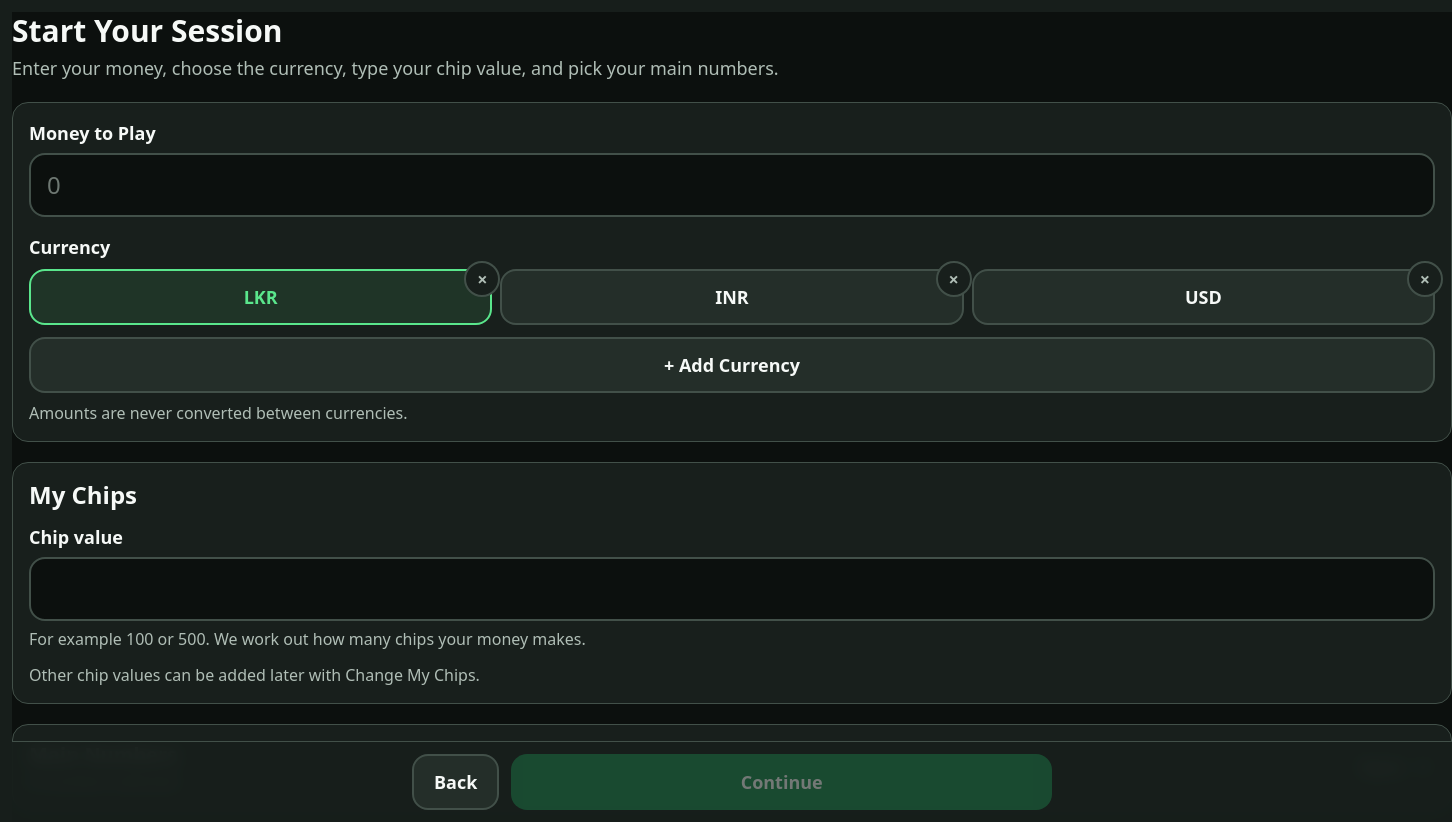
one start page: money, currency and one simple chip box › a chip worth more than the money is explained and blocks Continue
Type "100" into the field labelled "Money to Play". click: (732, 184)
box: [29,152,1435,216]
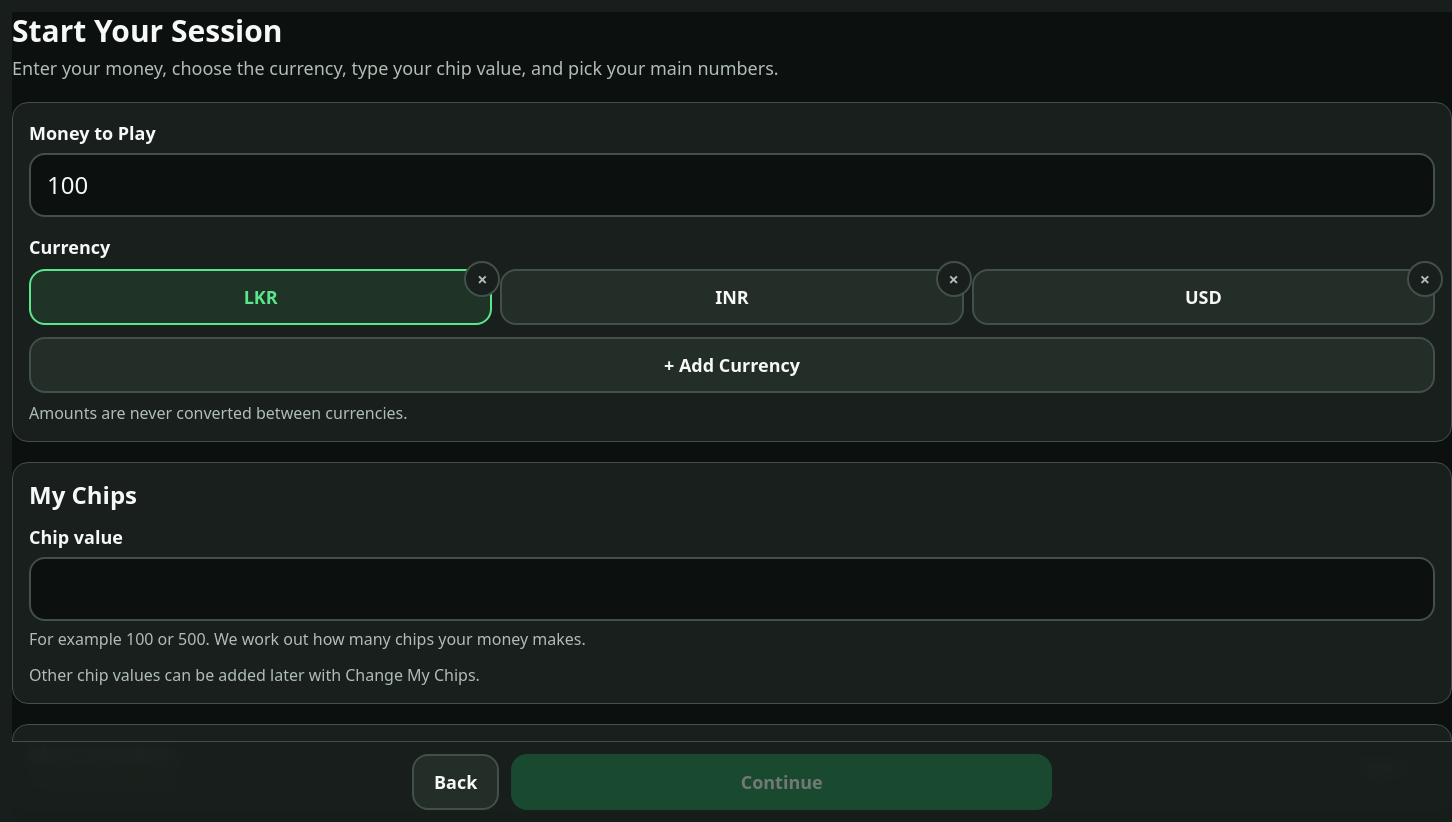
Type "500" into the field labelled "Chip value". click: (732, 588)
box: [29,556,1435,620]
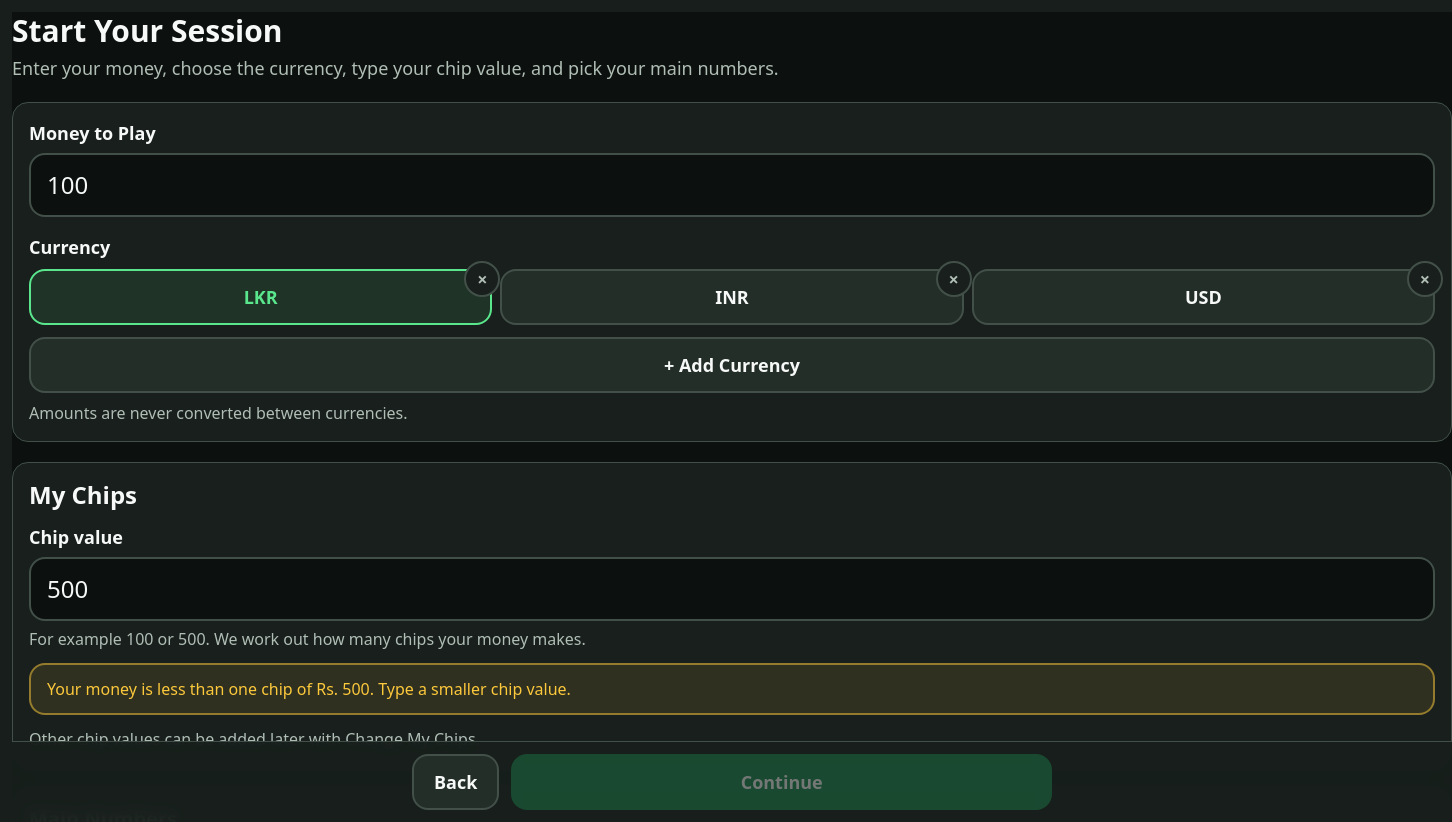
Expected: the button "Continue" is disabled, [511,754,1052,810]
Now the text "Your money is less than one chip of Rs. 500. Type a smaller chip value." is shown, box [29,662,1435,714]
